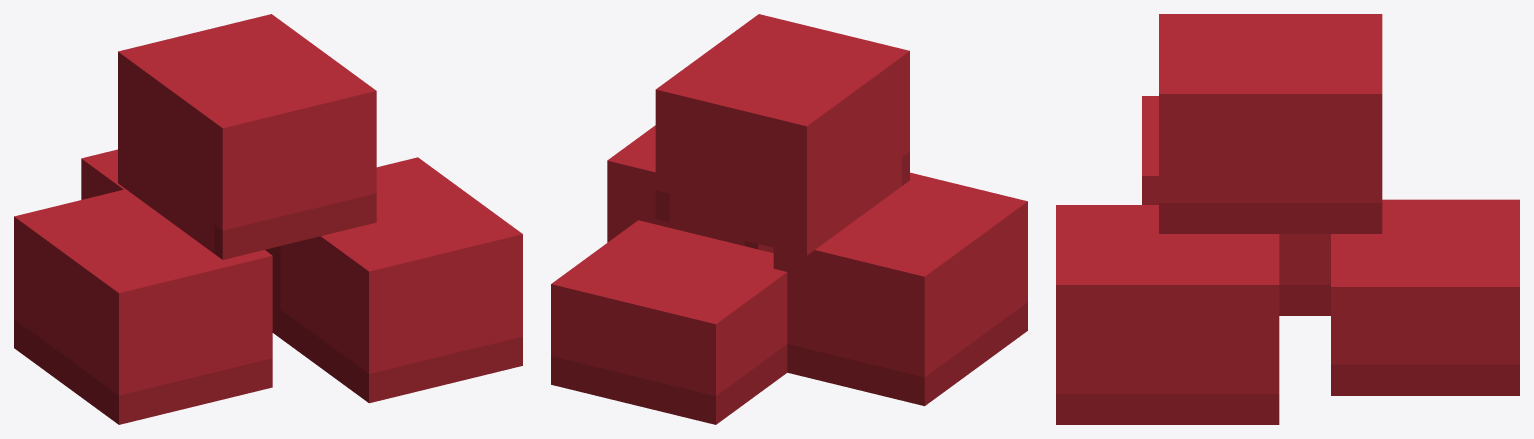
File: ingredients.vox-1-meat-sliced.obj
The picture shows the model from 3 angles, left to right: view 1: azimuth 30°, elevation 25°; view 2: azimuth 150°, elevation 25°; view 3: azimuth 270°, elevation 25°; orthographic projection. The views are drawn at different scales.
Visible parts, largest first — view 1: meat-sliced; view 2: meat-sliced; view 3: meat-sliced.
Boxes of the visible parts, x1,y1,x2,y2 form: meat-sliced: [14, 14, 522, 424]; meat-sliced: [551, 14, 1027, 424]; meat-sliced: [1056, 14, 1519, 424].
Size of the model in its own units: 2.6 by 1.8 by 2.7.
1 material, 1 textured.
